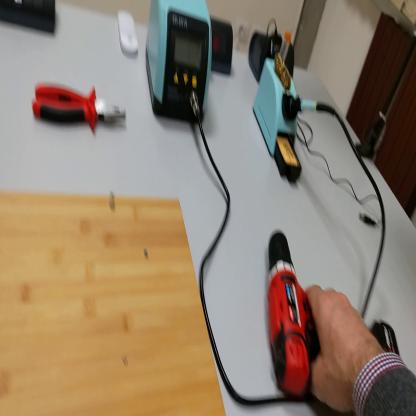electric screwdriver: (267, 222, 375, 408)
hand: (306, 279, 372, 413)
pliers: (32, 84, 128, 138)
socket: (246, 24, 296, 86), (212, 15, 235, 77)
welder base: (252, 24, 304, 188)
welder probe tip: (293, 98, 335, 117)
welder station: (142, 2, 212, 126)
working area: (2, 187, 227, 413)
